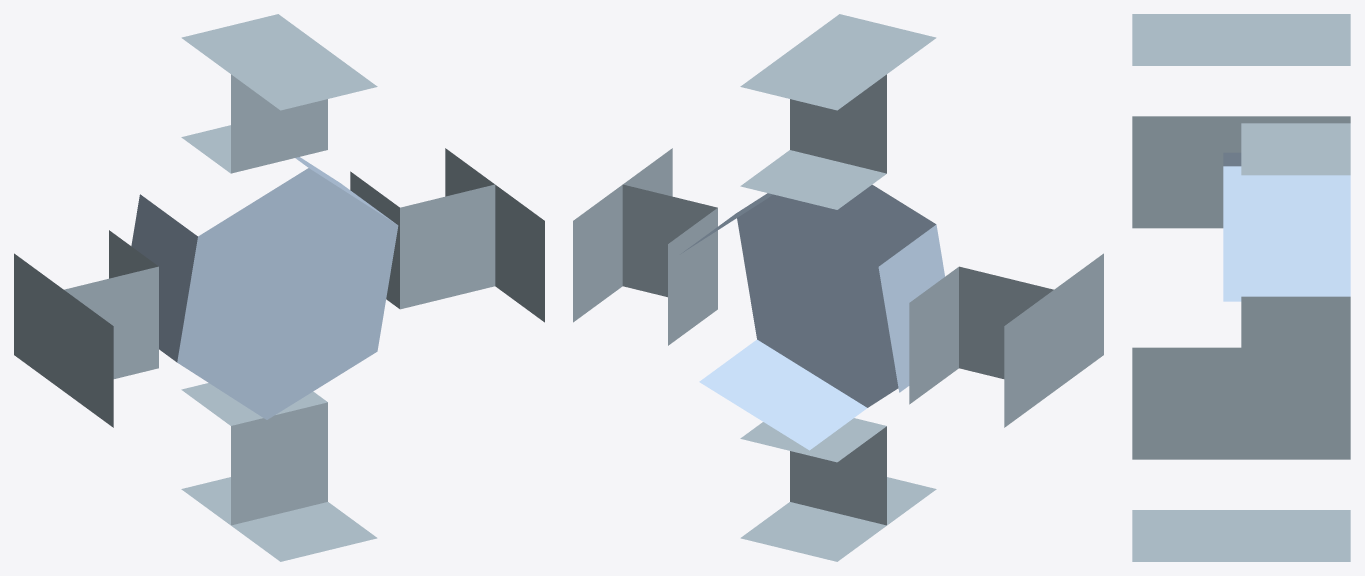
3 views of the same model, side by side, from view 1: azimuth 30°, elevation 25°; view 2: azimuth 150°, elevation 25°; view 3: azimuth 270°, elevation 25° (orthographic). The views are drawn at different scales.
Parts seen in each view (by area): view 1: Cube.004, Cube.006, Cube.007; view 2: Cube.004, Cube.006, Cube.007; view 3: Cube.006, Cube.007, Cube.004.
Boxes of the visible parts, box(x1,y1,x2,y2) form: Cube.004: box(131, 157, 398, 419); Cube.006: box(14, 148, 544, 427); Cube.007: box(181, 14, 377, 561); Cube.004: box(680, 184, 944, 450); Cube.006: box(573, 148, 1103, 427); Cube.007: box(740, 14, 936, 561); Cube.006: box(1132, 116, 1350, 459); Cube.007: box(1132, 14, 1350, 561); Cube.004: box(1223, 152, 1350, 301).
Size of the model in its own units: 3 by 3 by 1.2.
